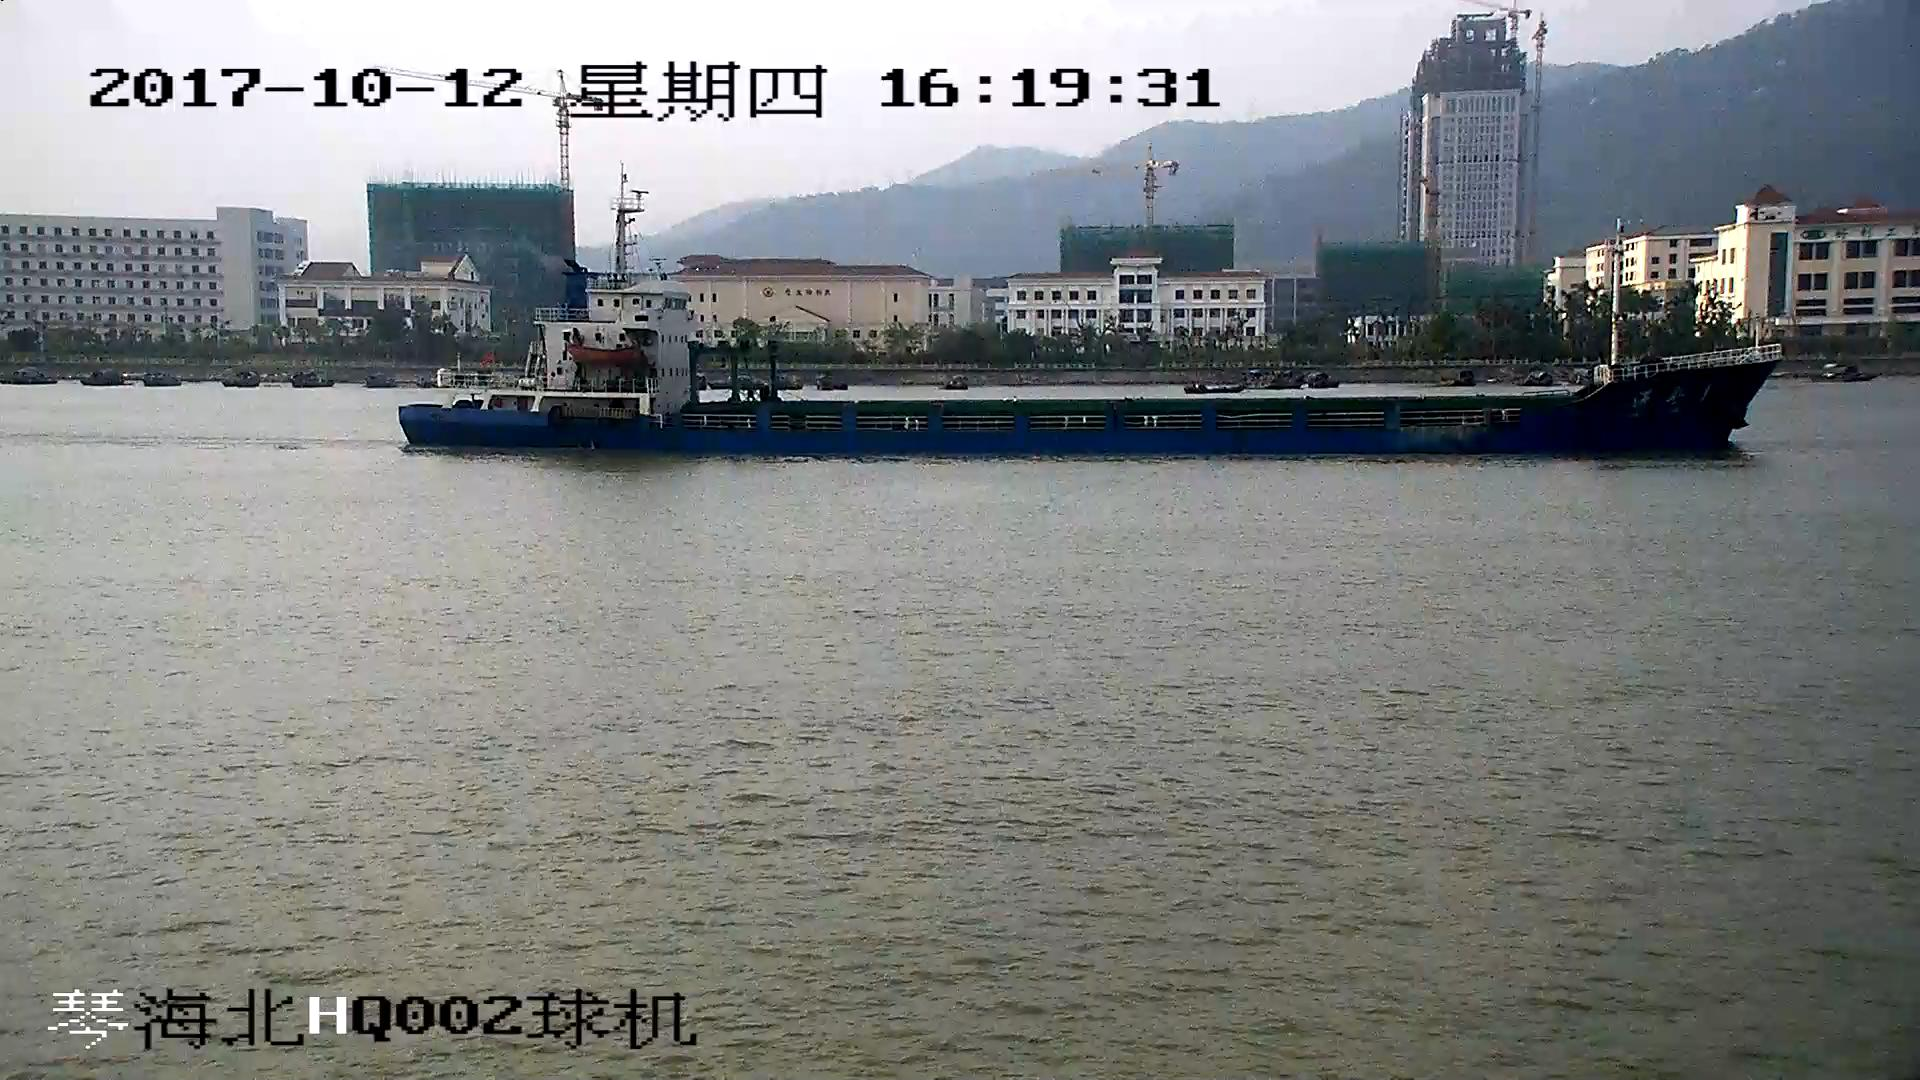general cargo ship: (406, 191, 1780, 459)
